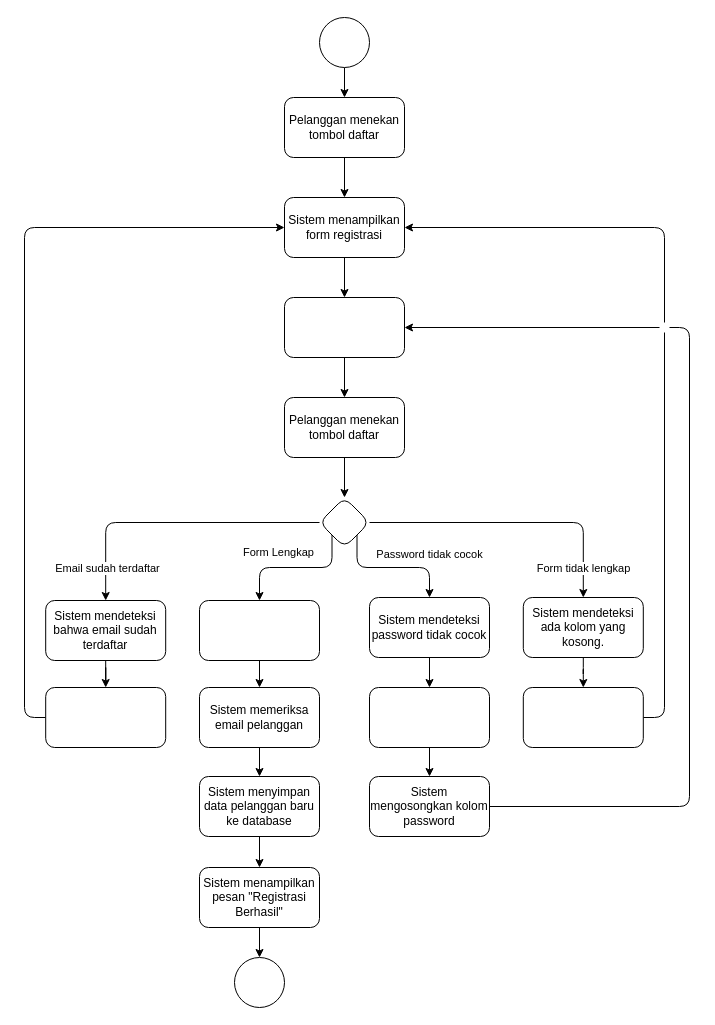
The diagram is 715 pixels wide and 1025 high, and some of its shapes have lost their labels. The shapes that lost their labels are listed below. From the top down, each one's centre as x and y in pixels, then its label:
(344,327): Pelanggan mengisi data-data di form
(259,630): Sistem memvalidasi kelengkapan data
(105,717): Sistem menampilkan pesan "Email sudah terdaftar"
(429,717): Sistem memberikan pesan "Password tidak cocok"
(582,717): Sistem menampilkan pesan peringatan
